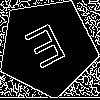E: (22, 22, 73, 78)
